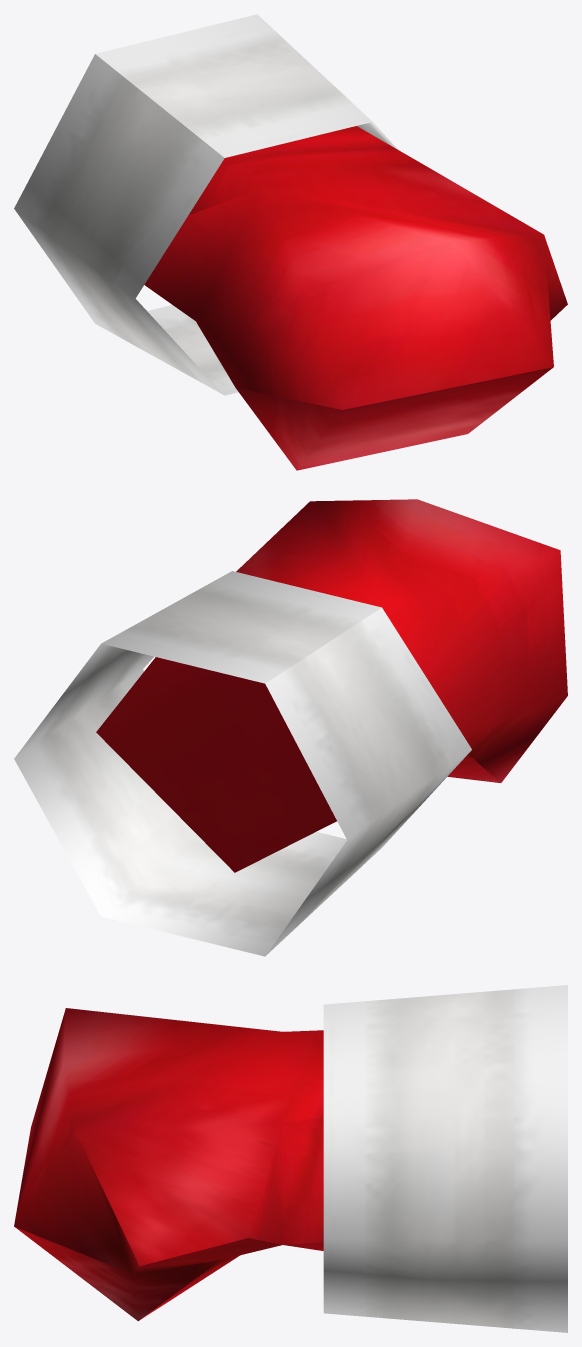
File: Item13R.FBX
3 views of the same model, one above another, from view 1: azimuth 30°, elevation 25°; view 2: azimuth 150°, elevation 25°; view 3: azimuth 270°, elevation 25° (orthographic).
Parts seen in each view (by area): view 1: item13R; view 2: item13R; view 3: item13R.
Boxes of the visible parts, bbox=[...] form: item13R: bbox=[14, 14, 567, 470]; item13R: bbox=[14, 499, 567, 956]; item13R: bbox=[14, 985, 567, 1332].
Size of the model in its own units: 3.29 by 2.5 by 4.66.
2 materials, 2 textured.
